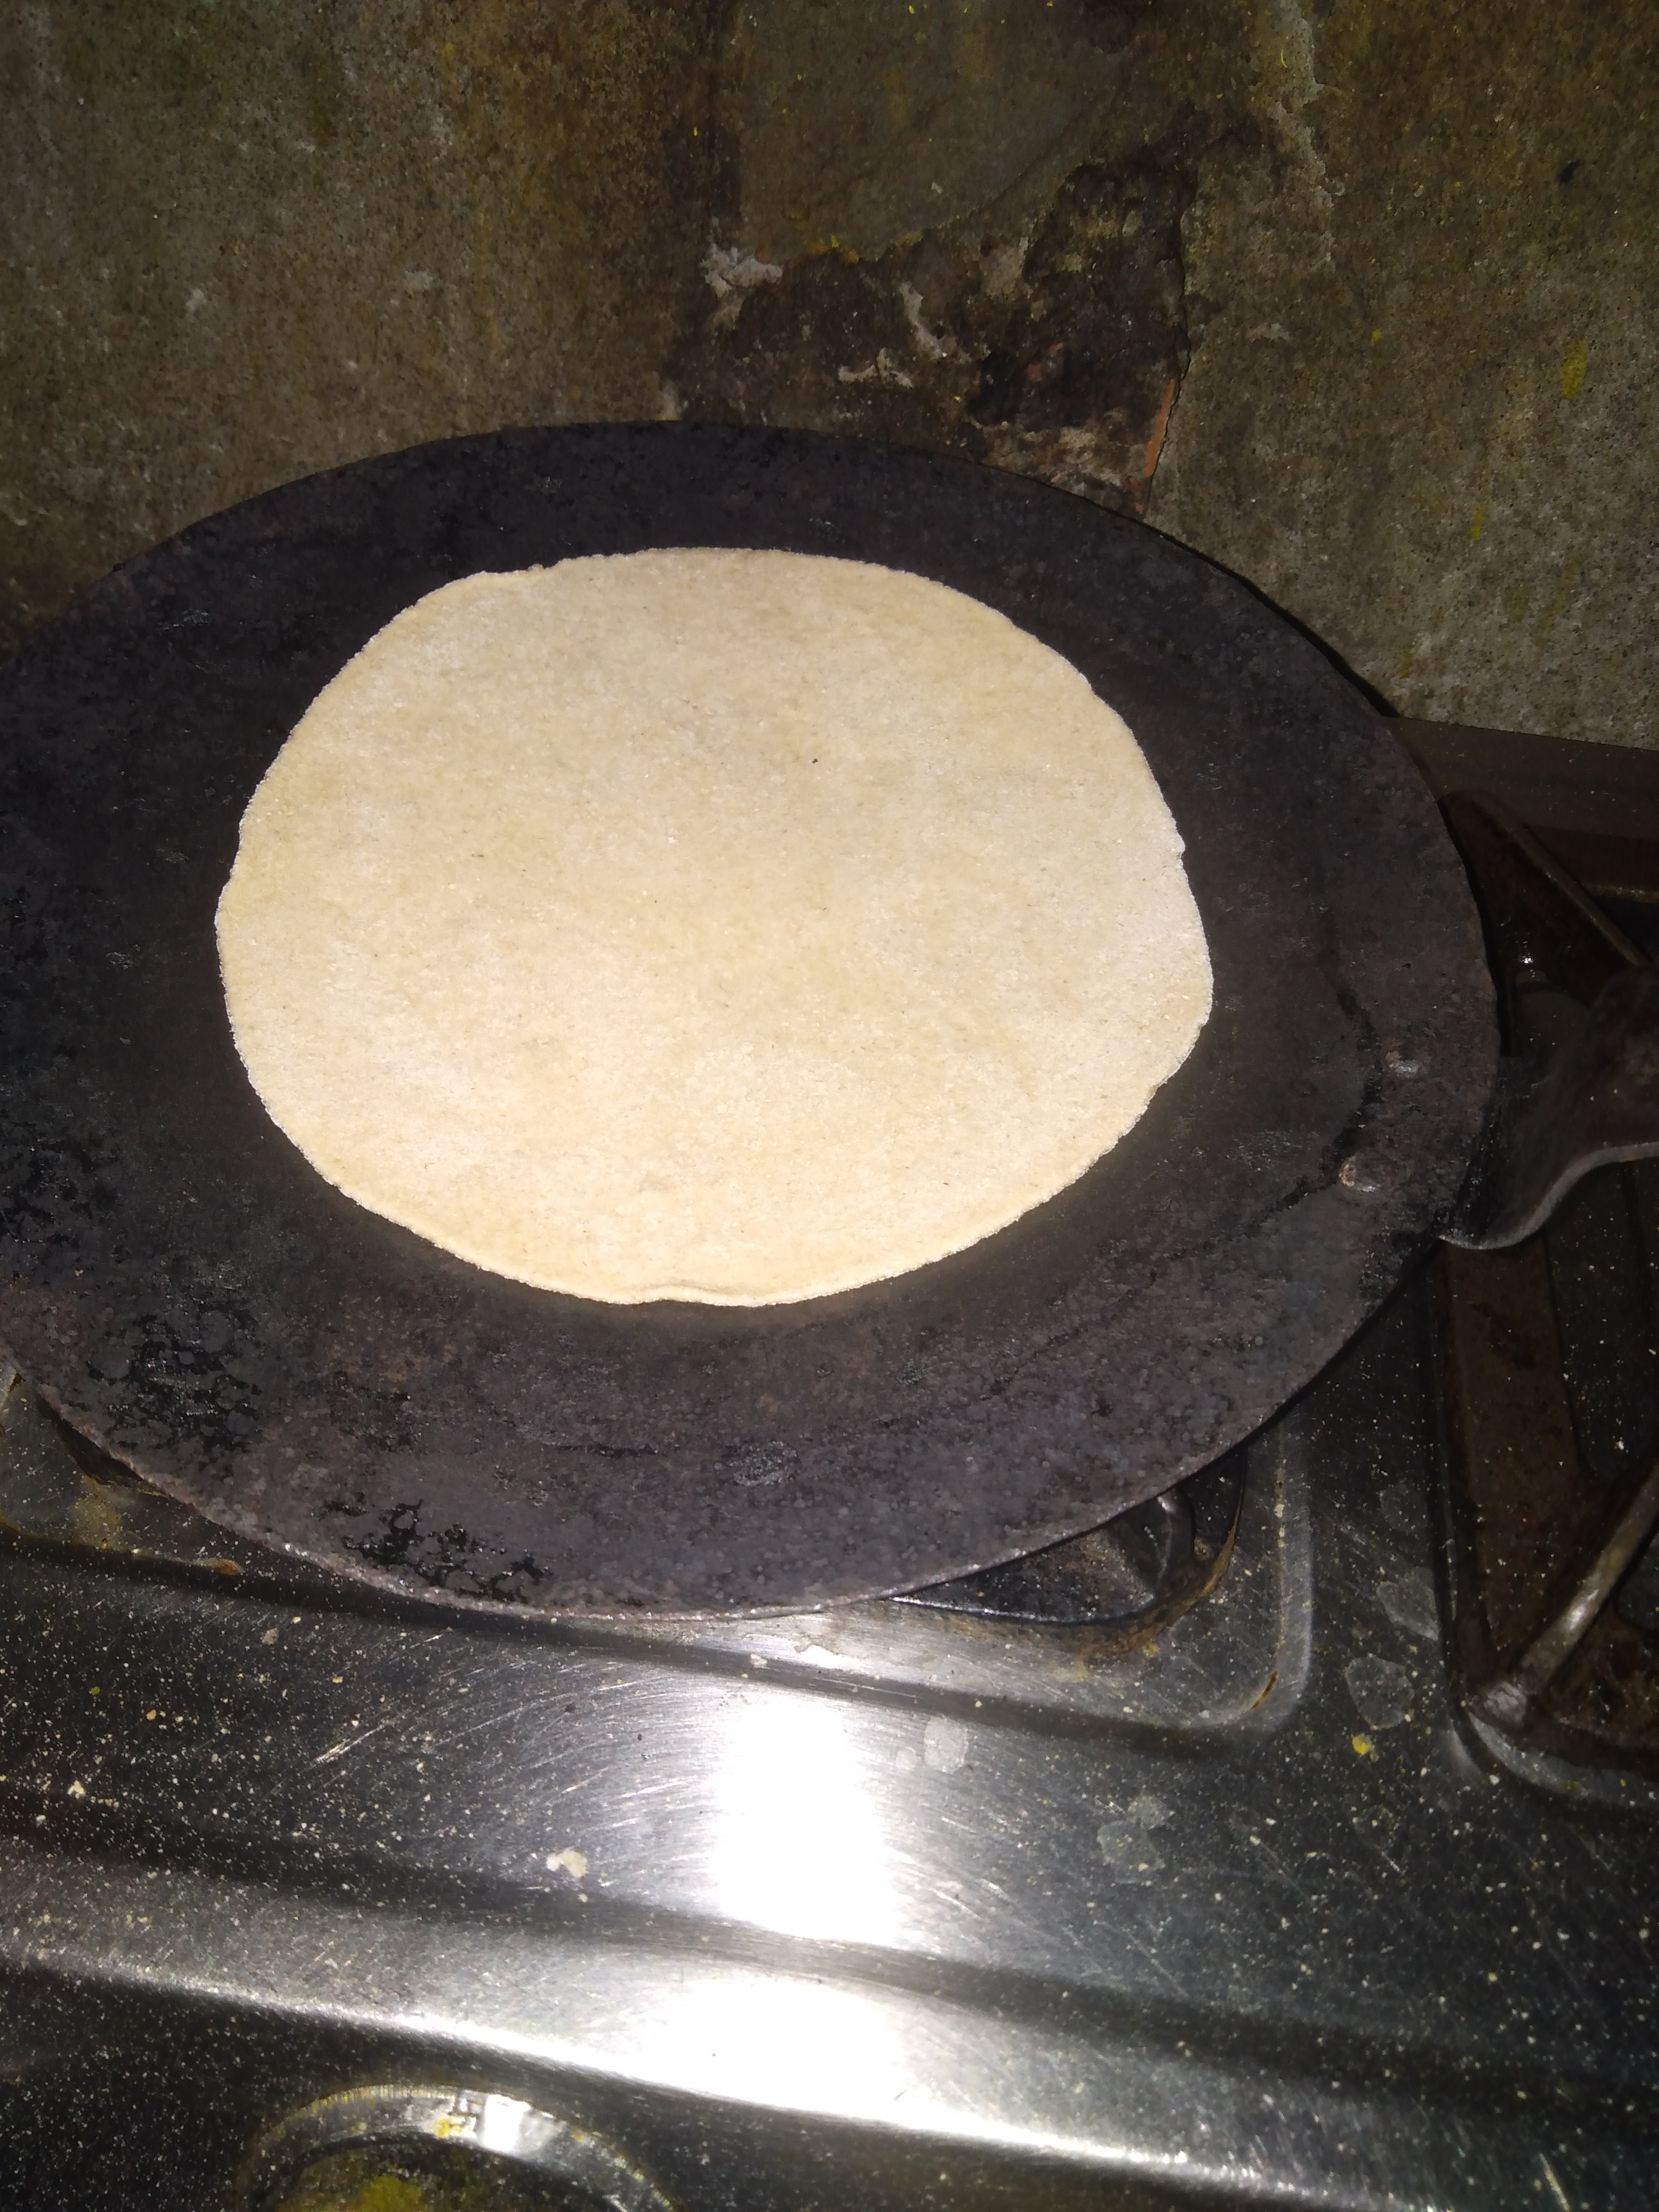food: (204, 533, 1232, 1324)
